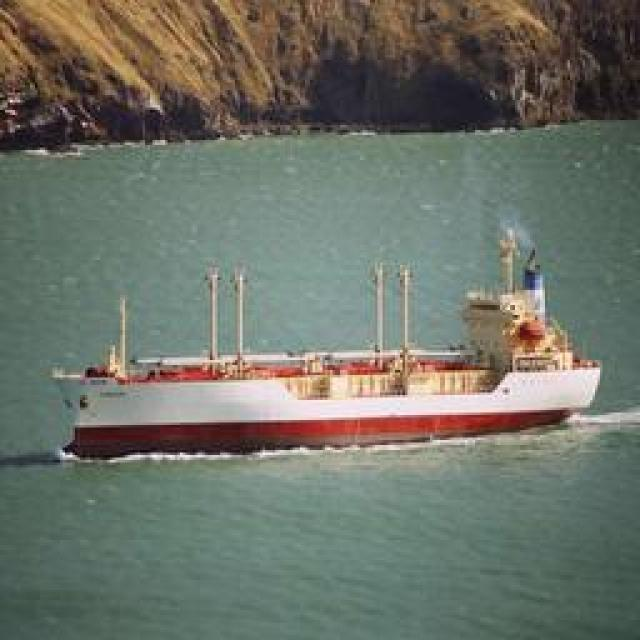CIV_Ship: (54, 234, 604, 462)
